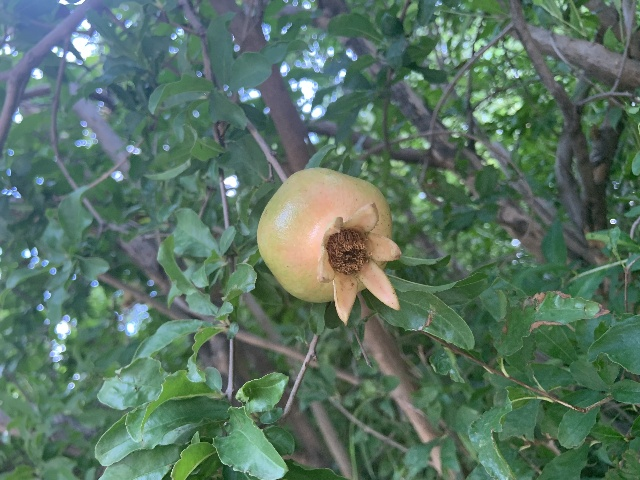mid-growth: (256, 167, 403, 326)
